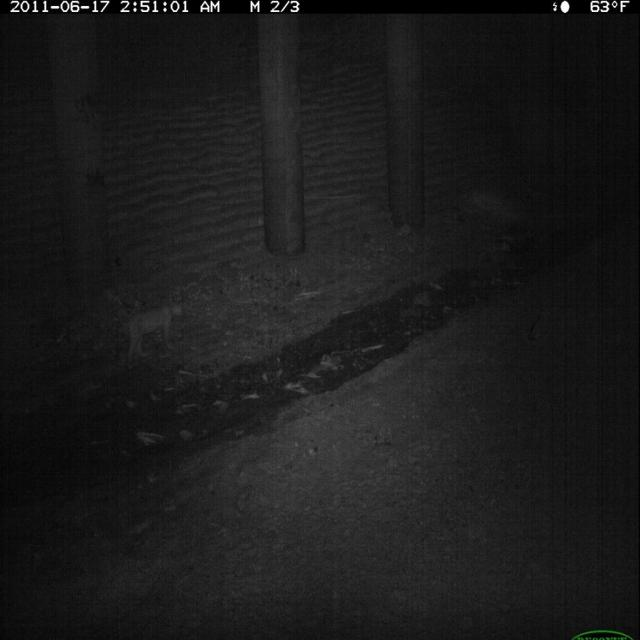bobcat: (119, 292, 189, 371)
